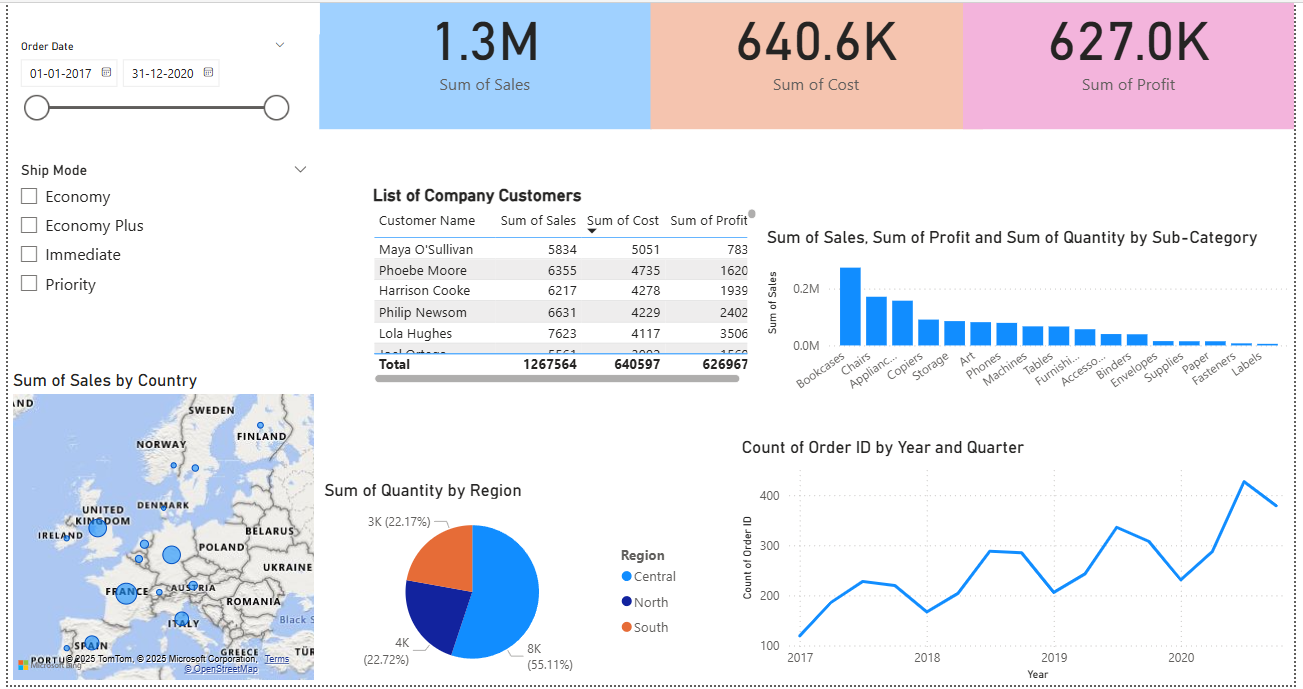

Layout of this report page (visuals, bound fields, positions):
{"tool":"powerbi","page":{"name":"Page 1","canvas":[1280,720],"ordinal":0},"visuals":[{"type":"card","fields":{"Values":["Sum(List of Orders.Sales)"]},"box":[310,0,330,166],"z":0},{"type":"card","fields":{"Values":["Sum(List of Orders.Cost)"]},"box":[640,0,330,166],"z":1000},{"type":"tableEx","title":"List of Company Customers","fields":{"Values":["List of Orders.Customer Name","Sum(List of Orders.Sales)","Sum(List of Orders.Cost)","Sum(List of Orders.Profit)"]},"box":[358.6,221.4,391.4,202.9],"z":2000},{"type":"card","fields":{"Values":["Sum(List of Orders.Profit)"]},"box":[950,0,330,166],"z":3000},{"type":"clusteredColumnChart","fields":{"Y":["Sum(List of Orders.Sales)"],"Category":["List of Orders.Sub-Category"]},"box":[750.1,263.7,529.9,174.2],"z":4000},{"type":"lineChart","fields":{"Y":["CountNonNull(List of Orders.Order ID)"],"Category":["List of Orders.Order Date.Variation.Date Hierarchy.Year","List of Orders.Order Date.Variation.Date Hierarchy.Quarter"]},"box":[725,472.5,555,247.5],"z":5000},{"type":"pieChart","fields":{"Y":["Sum(List of Orders.Quantity)"],"Category":["List of Orders.Region"]},"box":[310,515,370,205],"z":6000},{"type":"map","fields":{"Category":["List of Orders.Country"],"Size":["Sum(List of Orders.Sales)"]},"box":[0,406,310,314],"z":7000},{"type":"textbox","box":[0,0,310,72],"z":8000},{"type":"slicer","fields":{"Values":["List of Orders.Ship Mode"]},"box":[0,194,310,166],"z":9000},{"type":"slicer","fields":{"Values":["List of Orders.Order Date"]},"box":[0,72,288,94],"z":10000}]}

Visuals, with their boxes on the page's 1280x720 design canvas (x1, y1, x2, y2). These are canvas units, not pixel positions in the 1303x689 screenshot, which may show the page scaled, cropped or inside an application window:
card - Sum(List of Orders.Sales): box(310, 0, 640, 166)
card - Sum(List of Orders.Cost): box(640, 0, 970, 166)
"List of Company Customers" tableEx: box(359, 221, 750, 424)
card - Sum(List of Orders.Profit): box(950, 0, 1280, 166)
clusteredColumnChart - Sum(List of Orders.Sales) x List of Orders.Sub-Category: box(750, 264, 1280, 438)
lineChart - CountNonNull(List of Orders.Order ID) x List of Orders.Order Date.Variation.Date Hierarchy.Year: box(725, 472, 1280, 720)
pieChart - Sum(List of Orders.Quantity) x List of Orders.Region: box(310, 515, 680, 720)
map - List of Orders.Country x Sum(List of Orders.Sales): box(0, 406, 310, 720)
textbox: box(0, 0, 310, 72)
slicer - List of Orders.Ship Mode: box(0, 194, 310, 360)
slicer - List of Orders.Order Date: box(0, 72, 288, 166)
